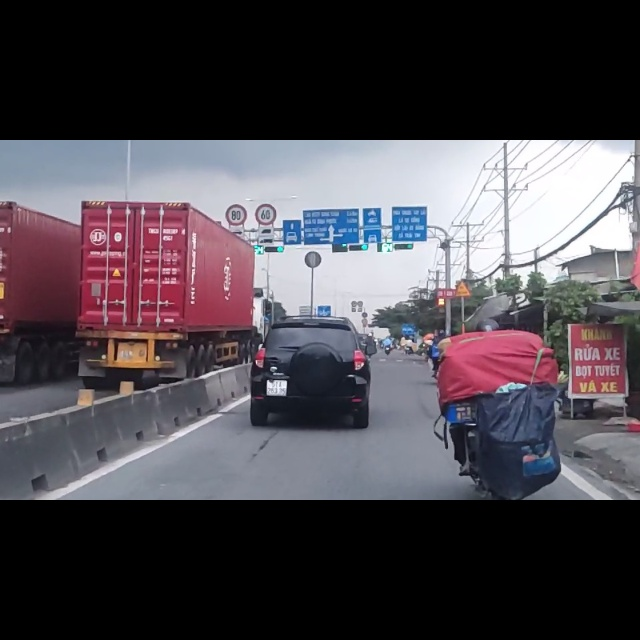bien_chi_dan: (225, 113, 248, 154), (255, 113, 277, 154), (454, 249, 473, 279)
